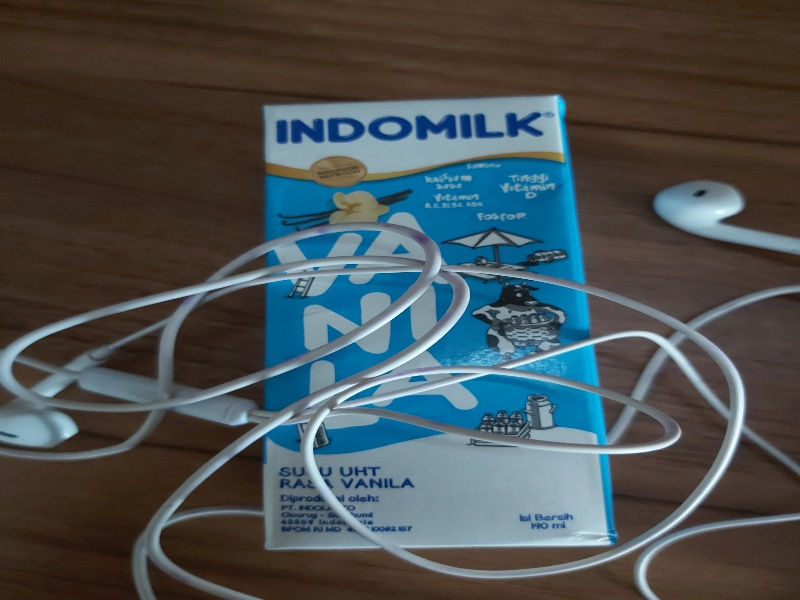vanilla: (262, 92, 620, 553)
